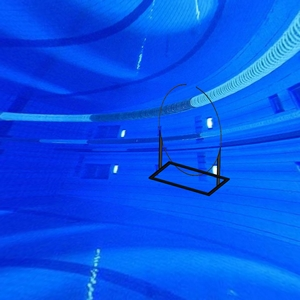circle: (147, 81, 234, 199)
